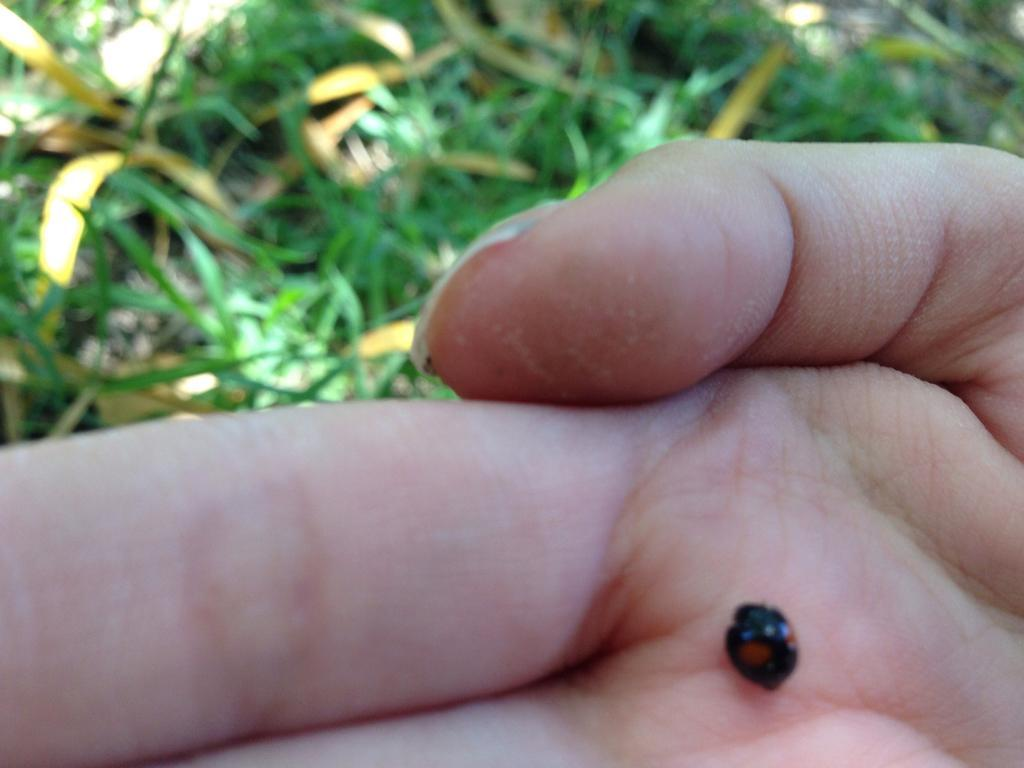ladybug: (727, 601, 803, 695)
